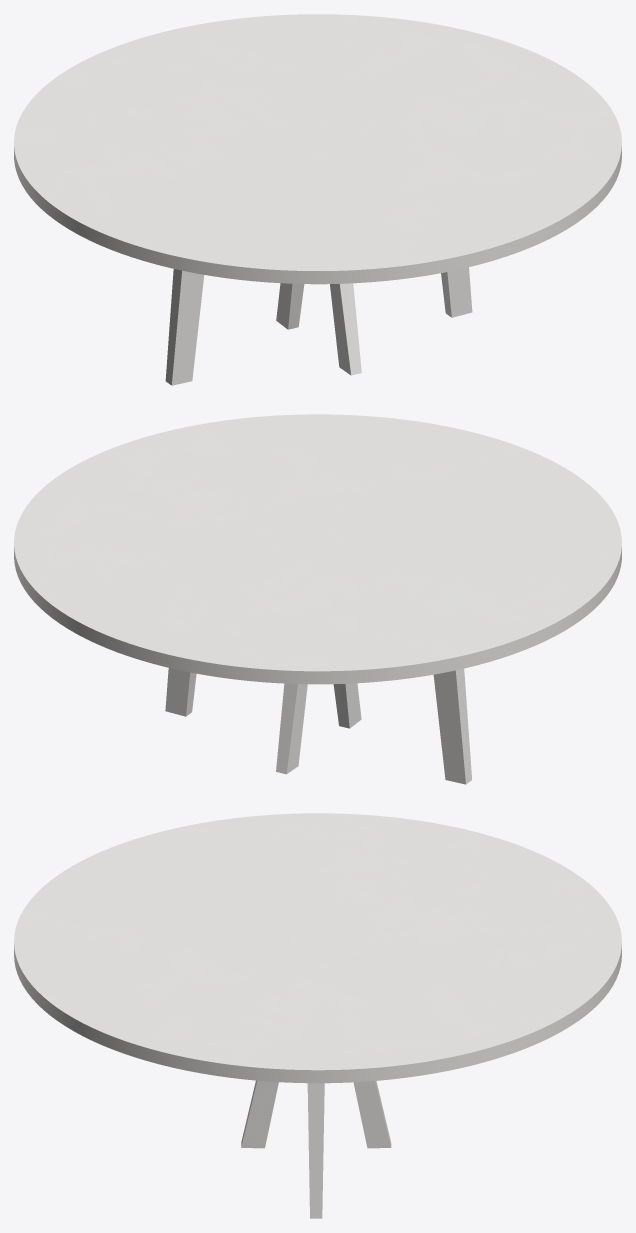
File: purewhite_round_standard_searwalnut.glb
3 views of the same model, one above another, from view 1: azimuth 30°, elevation 25°; view 2: azimuth 150°, elevation 25°; view 3: azimuth 270°, elevation 25° (orthographic).
Parts seen in each view (by area): view 1: standard_round, searwalnut; view 2: standard_round, searwalnut; view 3: standard_round, searwalnut.
Part boxes in pixels (x1,y1,x2,y2): standard_round: [14, 14, 621, 284]; searwalnut: [165, 267, 472, 385]; standard_round: [14, 414, 621, 684]; searwalnut: [165, 668, 471, 784]; standard_round: [14, 813, 621, 1083]; searwalnut: [241, 1080, 391, 1218].
Bounding box in the file's own units: 6.75 × 2.5 × 6.75.
Materials: 1 (1 with a texture image).
